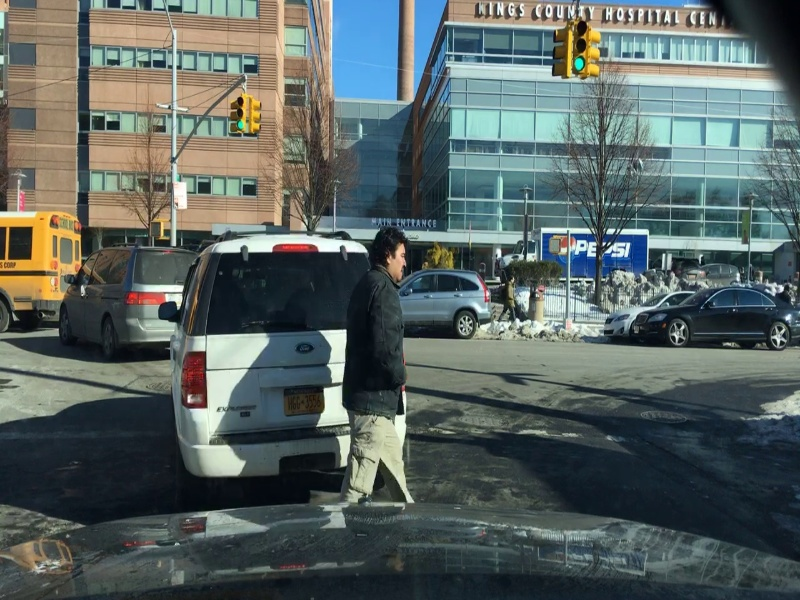car: (172, 223, 415, 500), (48, 246, 181, 349), (635, 285, 800, 348), (1, 208, 80, 337), (386, 263, 507, 341), (594, 286, 693, 341)
person: (342, 219, 415, 518)
